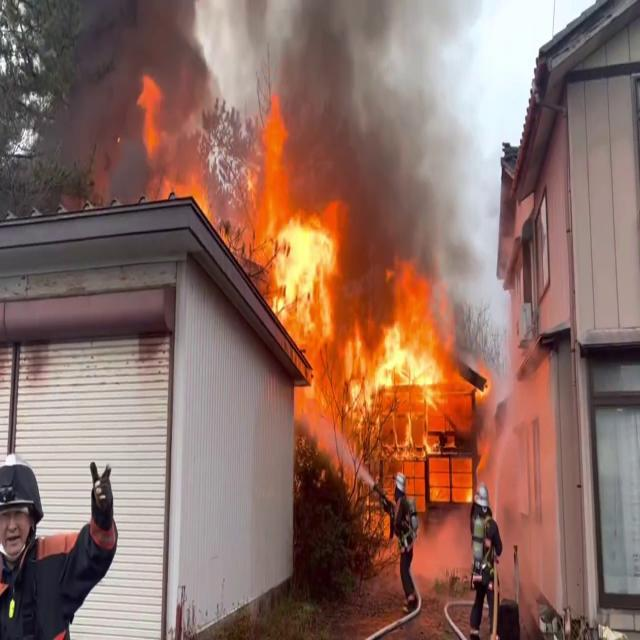Fire: (241, 130, 481, 504), (137, 64, 229, 233)
Smoke: (292, 0, 486, 278), (24, 0, 228, 192)
